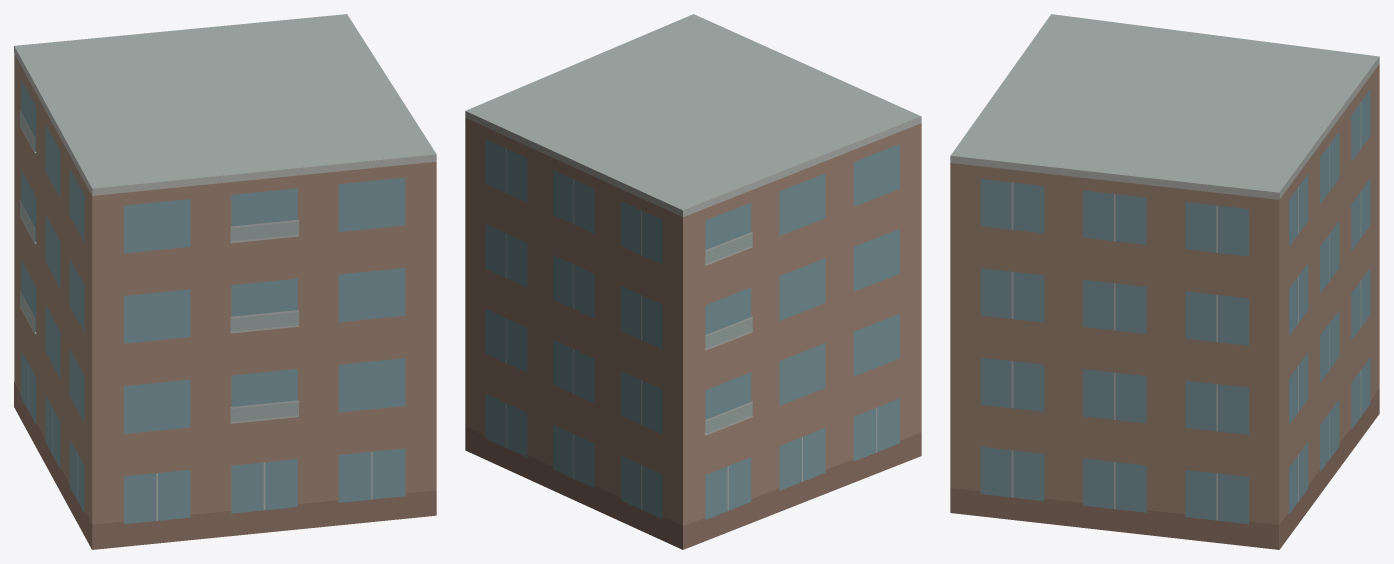
File: survey-upis-32831681.glb
The picture shows the model from 3 angles, left to right: view 1: azimuth 30°, elevation 25°; view 2: azimuth 150°, elevation 25°; view 3: azimuth 270°, elevation 25°; orthographic projection. The views are drawn at different scales.
Visible parts, largest first — view 1: survey-upis-32831681.tmp; view 2: survey-upis-32831681.tmp; view 3: survey-upis-32831681.tmp.
Part boxes in pixels (x1,y1,x2,y2): survey-upis-32831681.tmp: (14, 14, 436, 549); survey-upis-32831681.tmp: (465, 14, 921, 549); survey-upis-32831681.tmp: (950, 14, 1379, 549).
Bounding box in the file's own units: 13.1 × 12.2 × 13.3.
